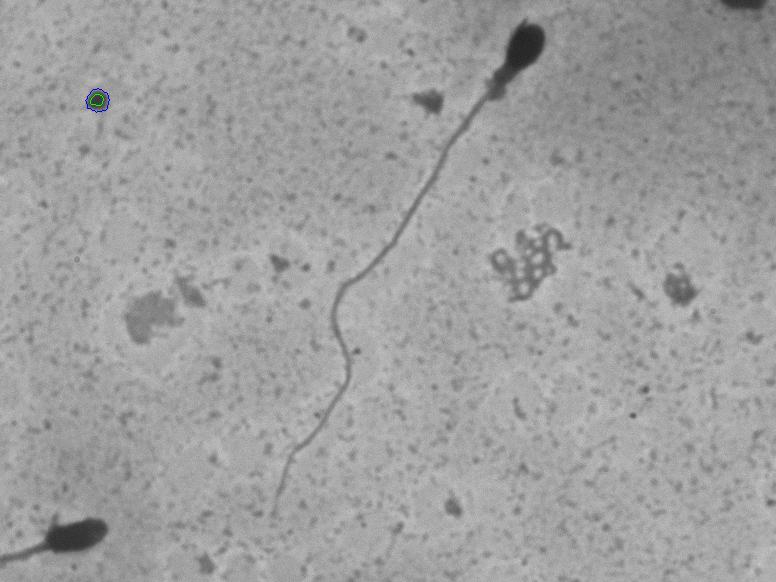Abnormal: (254, 18, 586, 524)
